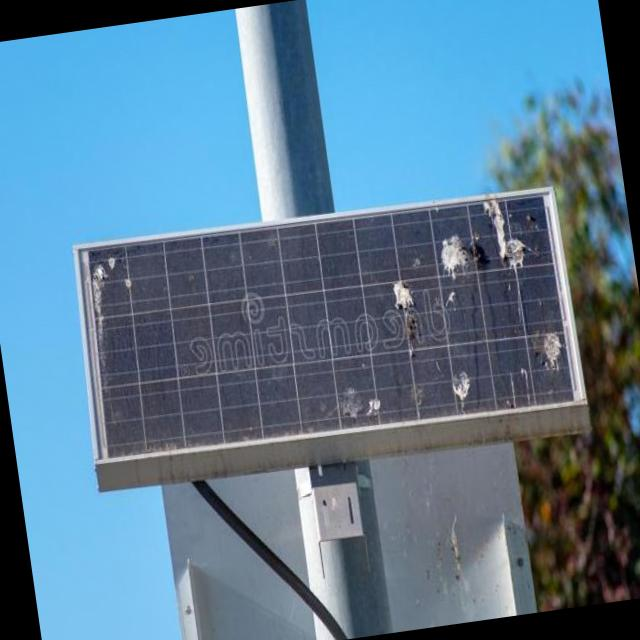faulty: (66, 186, 577, 474)
